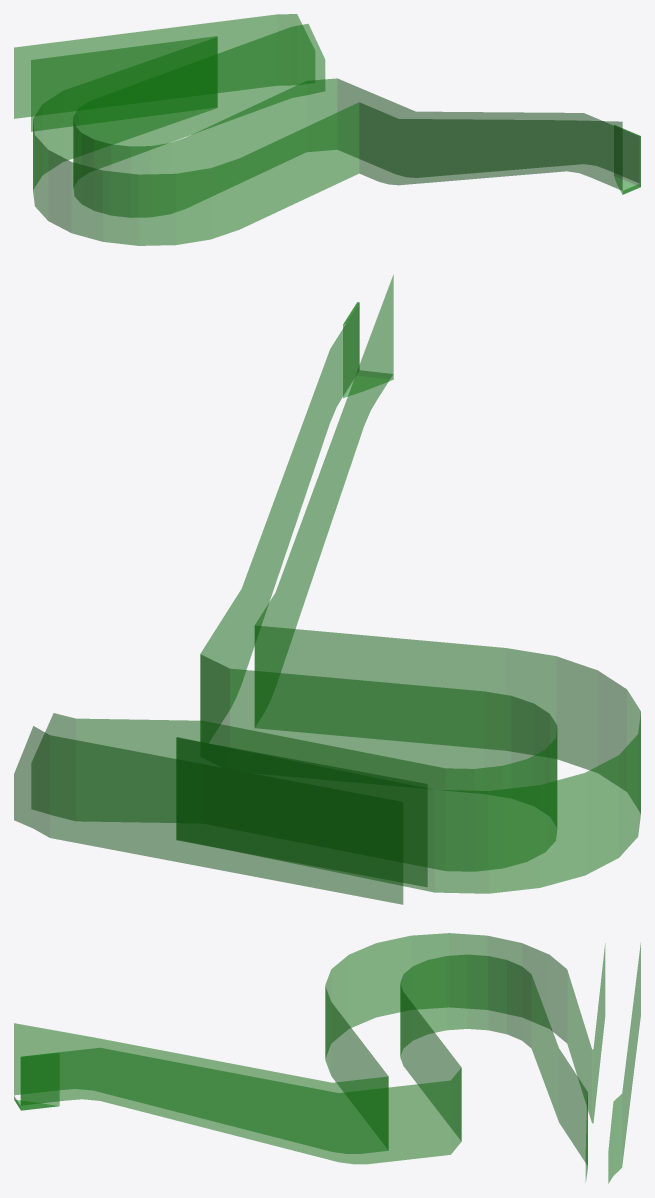
The model's file is wall9.obj.
3 renders of one model, top to bottom at view 1: azimuth 30°, elevation 25°; view 2: azimuth 150°, elevation 25°; view 3: azimuth 270°, elevation 25°, orthographic. The views are drawn at different scales.
Bounding box in the file's own units: 201 × 81.82 × 270.
